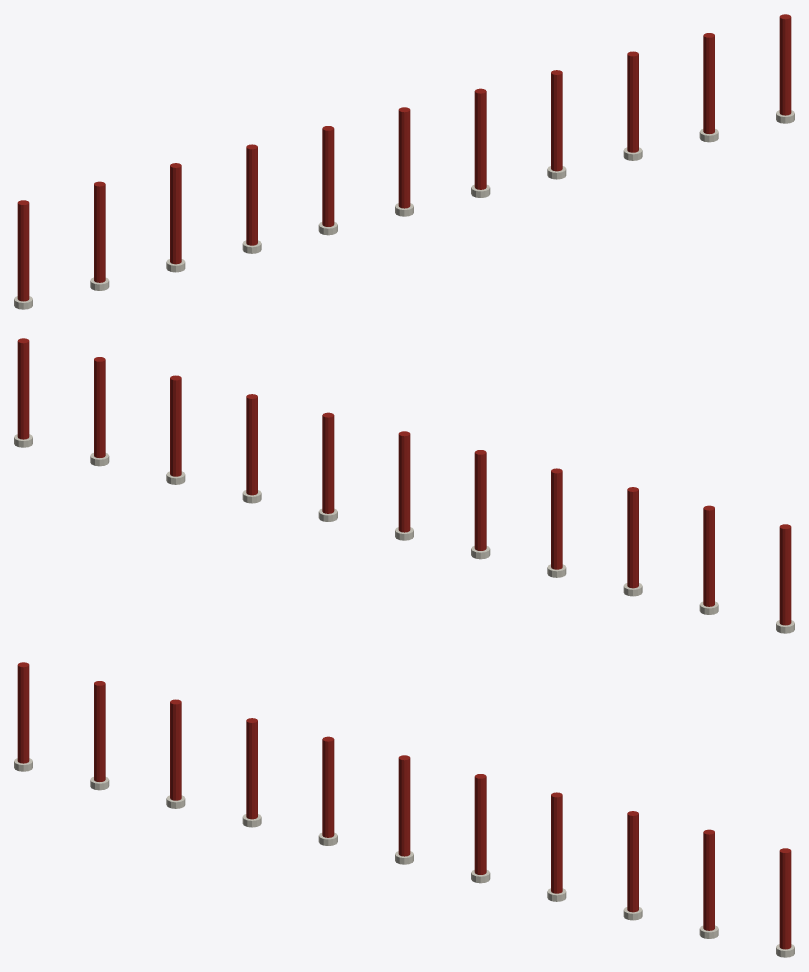
File: SM_11_Columns_Front.fbx
3 renders of one model, top to bottom at view 1: azimuth 30°, elevation 25°; view 2: azimuth 150°, elevation 25°; view 3: azimuth 330°, elevation 25°, orthographic.
Parts seen in each view (by area): view 1: Columns_Front; view 2: Columns_Front; view 3: Columns_Front.
Part boxes in pixels (<box>): Columns_Front: <box>14,14,794,309</box>; Columns_Front: <box>14,338,794,633</box>; Columns_Front: <box>14,662,794,957</box>.
Size of the model in its own units: 4904 by 104 by 620.
